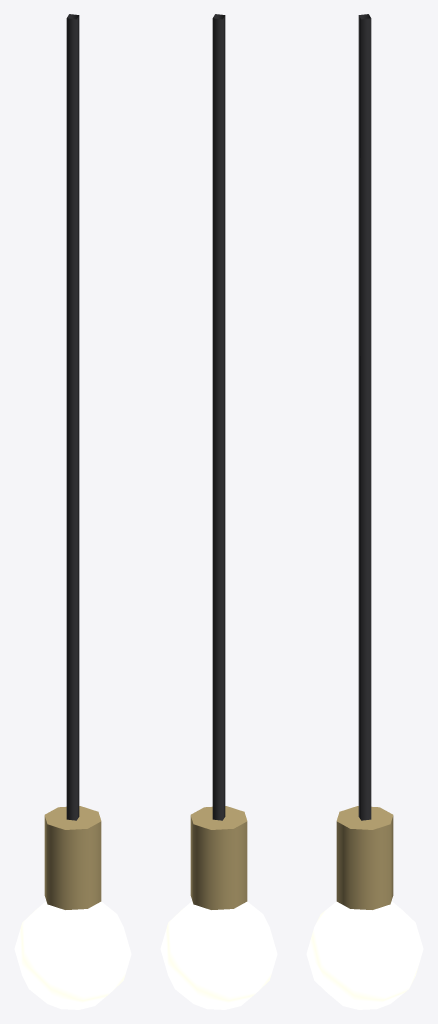
Rendered from bulb.glb.
3 renders of one model, left to right at view 1: azimuth 30°, elevation 25°; view 2: azimuth 210°, elevation 25°; view 3: azimuth 330°, elevation 25°, orthographic.
Parts seen in each view (by area): view 1: bulb; view 2: bulb; view 3: bulb.
Boxes of the visible parts, x1,y1,x2,y2 form: bulb: [14, 14, 131, 1009]; bulb: [160, 14, 277, 1009]; bulb: [306, 14, 423, 1009].
Size of the model in its own units: 0.08 by 0.74 by 0.0761.
